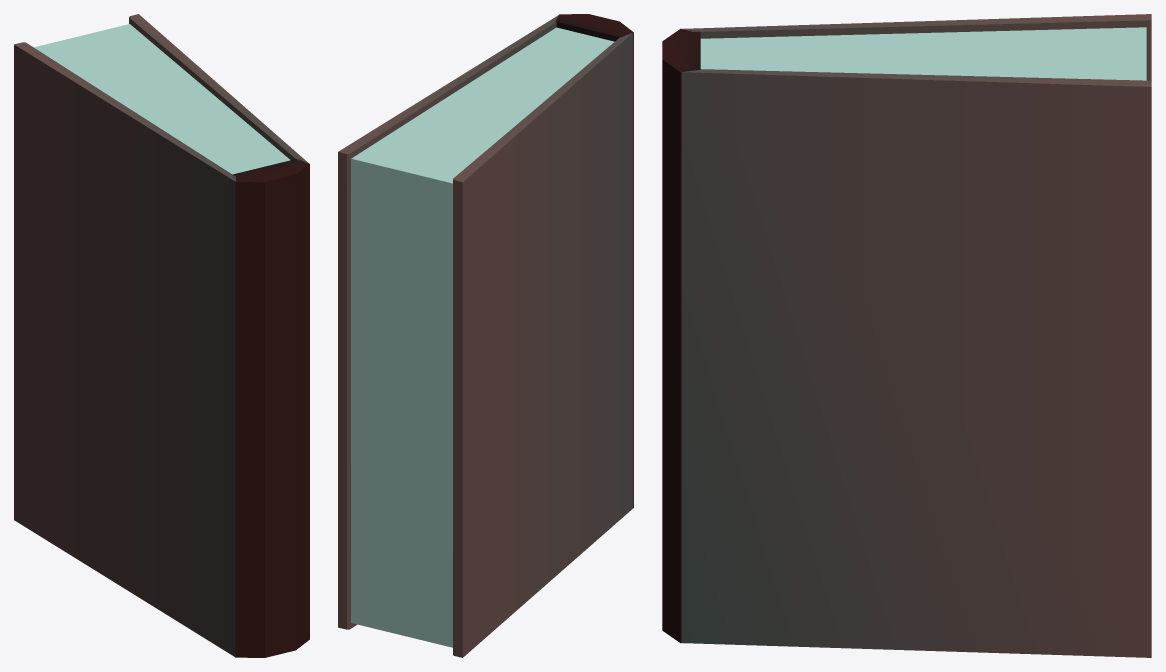
3 renders of one model, left to right at view 1: azimuth 30°, elevation 25°; view 2: azimuth 150°, elevation 25°; view 3: azimuth 270°, elevation 25°, orthographic. The views are drawn at different scales.
Parts seen in each view (by area): view 1: cover, spine, pages, cover.001; view 2: cover, pages, cover.001, spine; view 3: cover.001, pages, spine, cover.
Boxes of the visible parts, x1,y1,x2,y2 form: cover: (14,42,235,656); spine: (232,159,309,657); pages: (34,24,290,174); cover.001: (129,14,308,163); cover: (453,32,633,657); pages: (351,27,614,647); cover.001: (338,15,558,629); spine: (555,14,633,508); cover.001: (681,69,1151,657); pages: (700,27,1146,80); spine: (662,28,700,643); cover: (682,14,1151,81).
Bounding box in the file's own units: 0.0686 × 0.25 × 0.1943.
